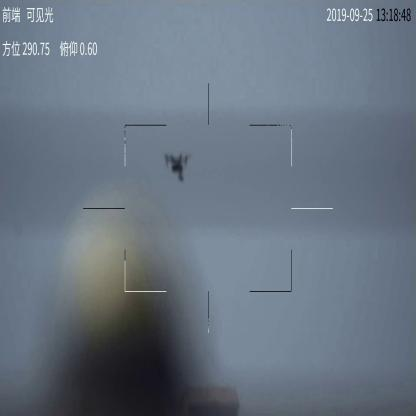uav: (165, 149, 191, 182)
